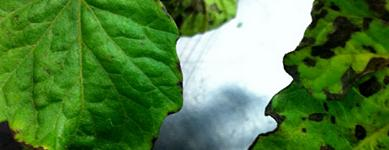Tomato leaf bacterial spot: (186, 0, 389, 150), (0, 0, 195, 150)
